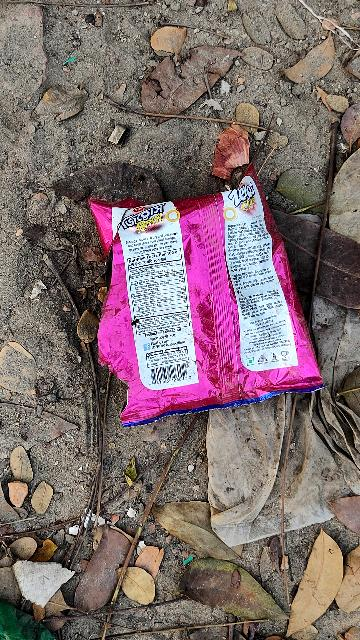packet: (91, 178, 320, 417)
